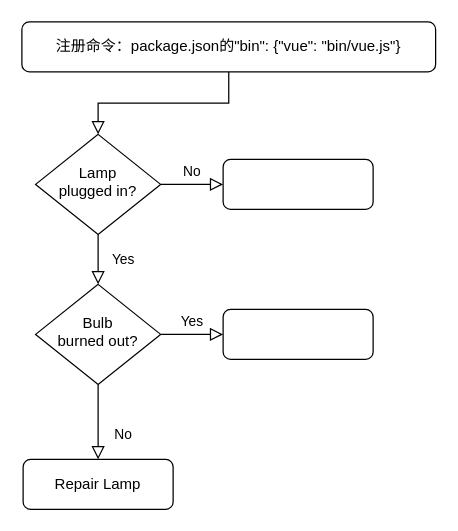
The diagram is 458 pixels wide and 531 high, and some of its shapes have lost their labels. Each missing label, with the centre of its shape:
"Plug in lamp" belongs at (x=297, y=183).
"Replace Bulb" belongs at (x=297, y=333).
